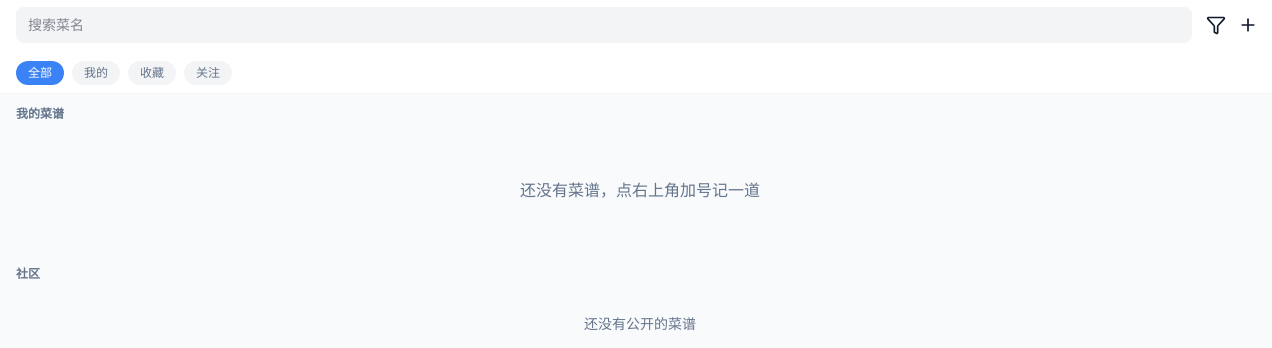
Test: RecipeList › 「收藏」为空时显示「还没有收藏的菜谱」
Click the button with test id "tab-fav" at [152, 73], box [128,61,176,85]
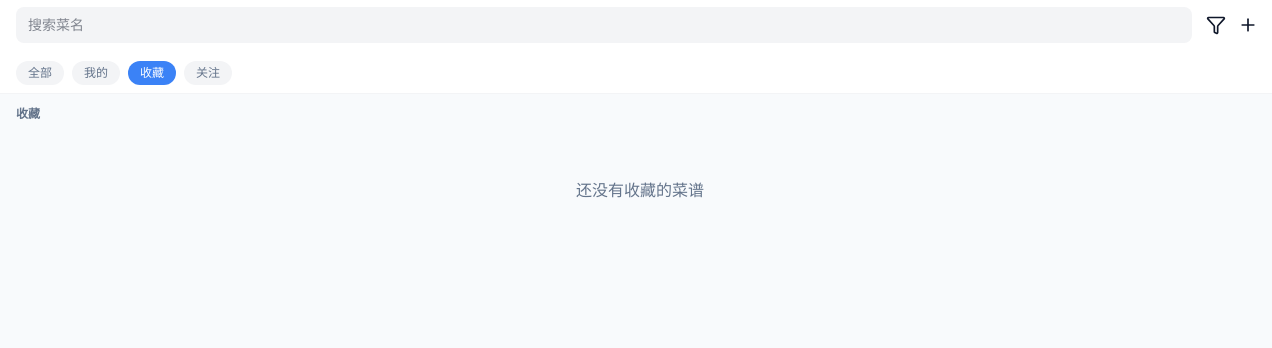
Check: the element with test id "my-recipes" shows "还没有收藏的菜谱", box [576,180,704,200]
Check: the text with test id "my-recipes" no longer shows "还没有菜谱，点右上角"
